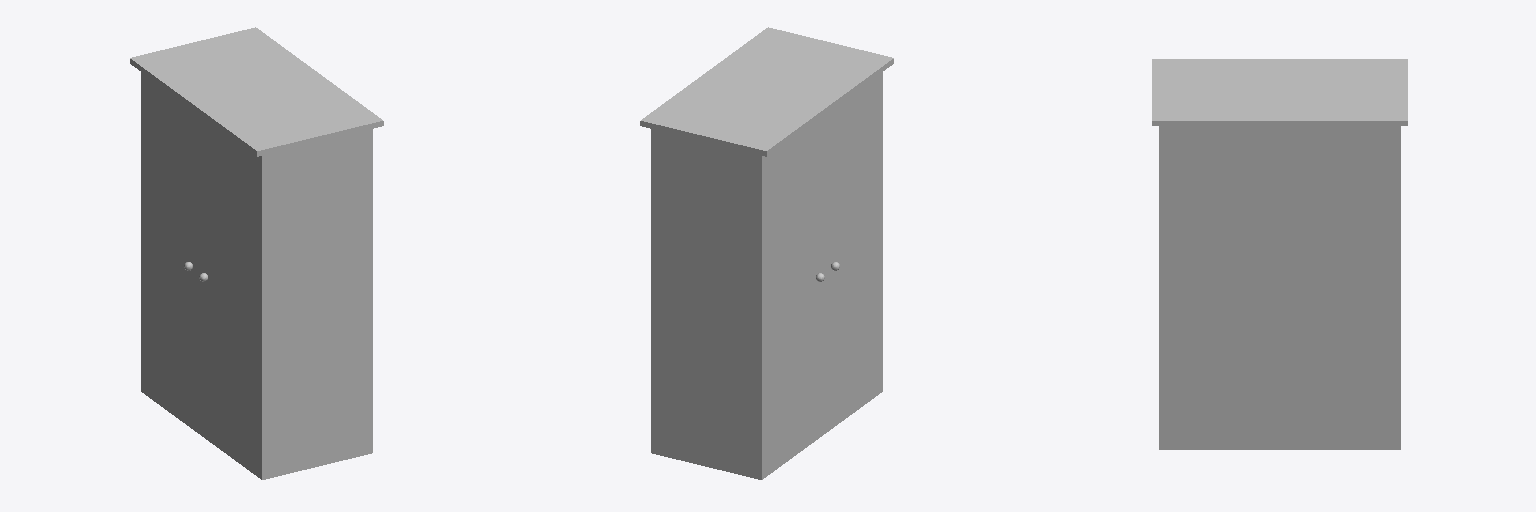
Rendered from closet.obj.
3 views of the same model, side by side, from view 1: azimuth 30°, elevation 25°; view 2: azimuth 150°, elevation 25°; view 3: azimuth 270°, elevation 25° (orthographic).
Parts seen in each view (by area): view 1: closet; view 2: closet; view 3: closet.
Part boxes in pixels (x1,y1,x2,y2): closet: (130, 27, 383, 479); closet: (640, 27, 893, 479); closet: (1152, 59, 1407, 449).
Size of the model in its own units: 2.42 by 6.05 by 4.2.